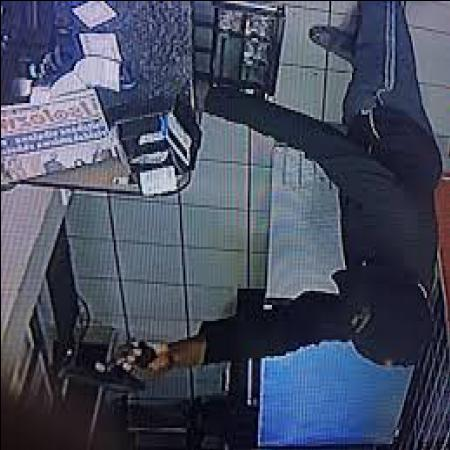Pistol: (45, 341, 158, 399)
